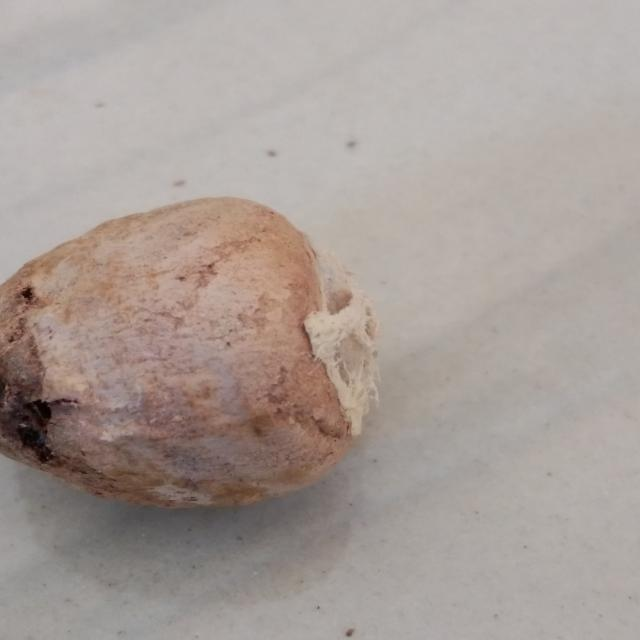karigot: (0, 179, 411, 524)
